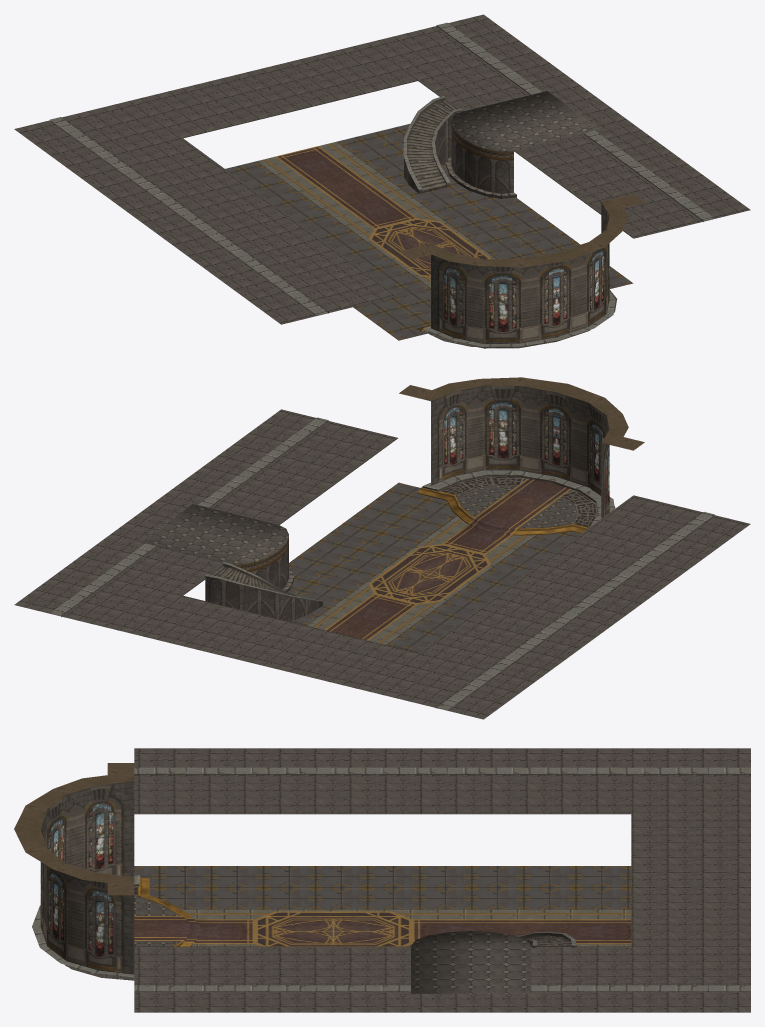
Rendered from Battle06_Ground_02.FBX.
The picture shows the model from 3 angles, top to bottom: view 1: azimuth 30°, elevation 25°; view 2: azimuth 150°, elevation 25°; view 3: azimuth 270°, elevation 25°; orthographic projection. The views are drawn at different scales.
Visible parts, largest first — view 1: Battle06_Ground_08, Battle06_Ground_01, Battle06_Ground_07, Battle06_Ground_02, Battle06_Ground_09, Battle06_Ground_06, Battle06_Ground_05, Battle06_Ground_04, Battle06_Ground_03; view 2: Battle06_Ground_08, Battle06_Ground_01, Battle06_Ground_07, Battle06_Ground_02, Battle06_Ground_09, Battle06_Ground_06, Battle06_Ground_03, Battle06_Ground_05; view 3: Battle06_Ground_08, Battle06_Ground_01, Battle06_Ground_07, Battle06_Ground_09, Battle06_Ground_02, Battle06_Ground_06.
Boxes of the visible parts, x1,y1,x2,y2 form: Battle06_Ground_08: [14, 14, 750, 324]; Battle06_Ground_01: [275, 146, 644, 348]; Battle06_Ground_07: [225, 124, 633, 340]; Battle06_Ground_02: [423, 91, 617, 346]; Battle06_Ground_09: [50, 22, 714, 315]; Battle06_Ground_06: [257, 141, 495, 287]; Battle06_Ground_05: [446, 124, 516, 198]; Battle06_Ground_04: [407, 100, 456, 193]; Battle06_Ground_03: [403, 96, 462, 193]; Battle06_Ground_08: [14, 409, 750, 719]; Battle06_Ground_01: [324, 377, 644, 640]; Battle06_Ground_07: [288, 482, 580, 652]; Battle06_Ground_02: [140, 486, 615, 565]; Battle06_Ground_09: [51, 417, 714, 709]; Battle06_Ground_06: [307, 516, 535, 644]; Battle06_Ground_03: [205, 562, 323, 621]; Battle06_Ground_05: [235, 537, 293, 591]; Battle06_Ground_08: [134, 748, 750, 1012]; Battle06_Ground_01: [14, 763, 631, 977]; Battle06_Ground_07: [134, 866, 631, 909]; Battle06_Ground_09: [134, 767, 750, 991]; Battle06_Ground_02: [66, 896, 531, 993]; Battle06_Ground_06: [182, 909, 631, 946].
Size of the model in its own units: 102 by 18.57 by 120.
